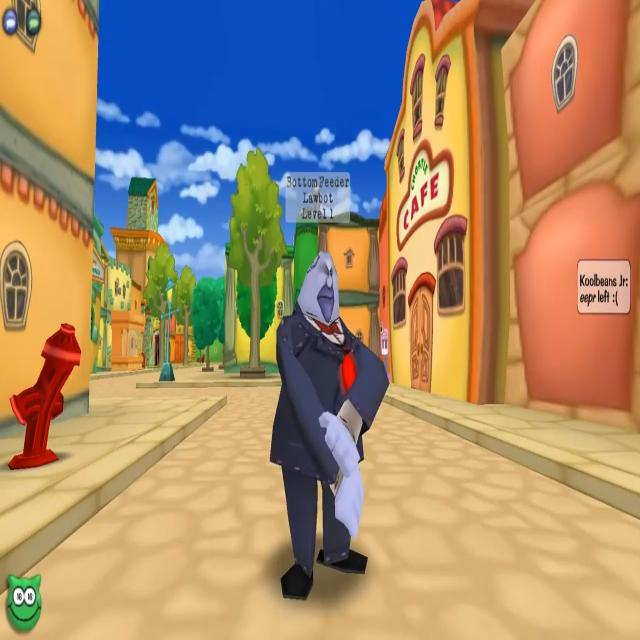bottomfeeder: (270, 172, 381, 608)
